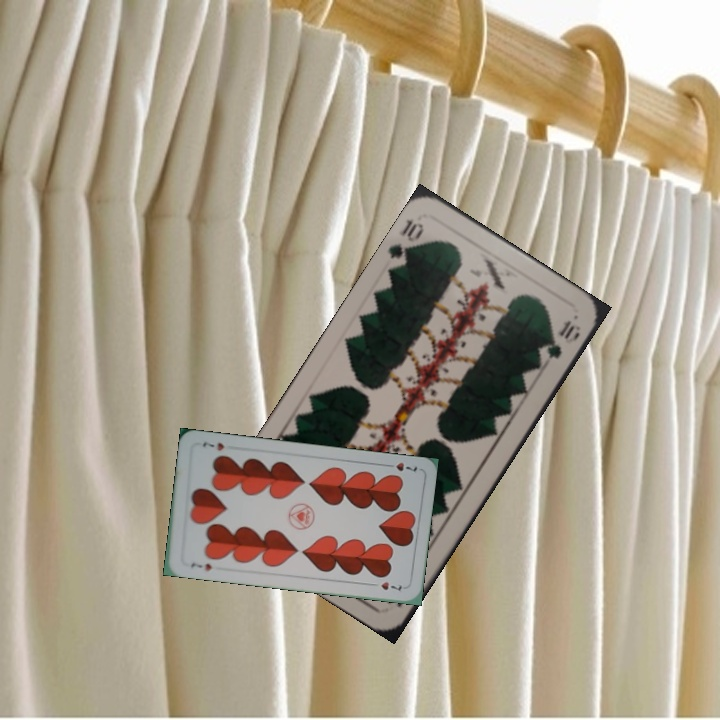G10: (384, 215, 427, 270)
H7: (381, 458, 420, 474), (187, 558, 214, 573)
